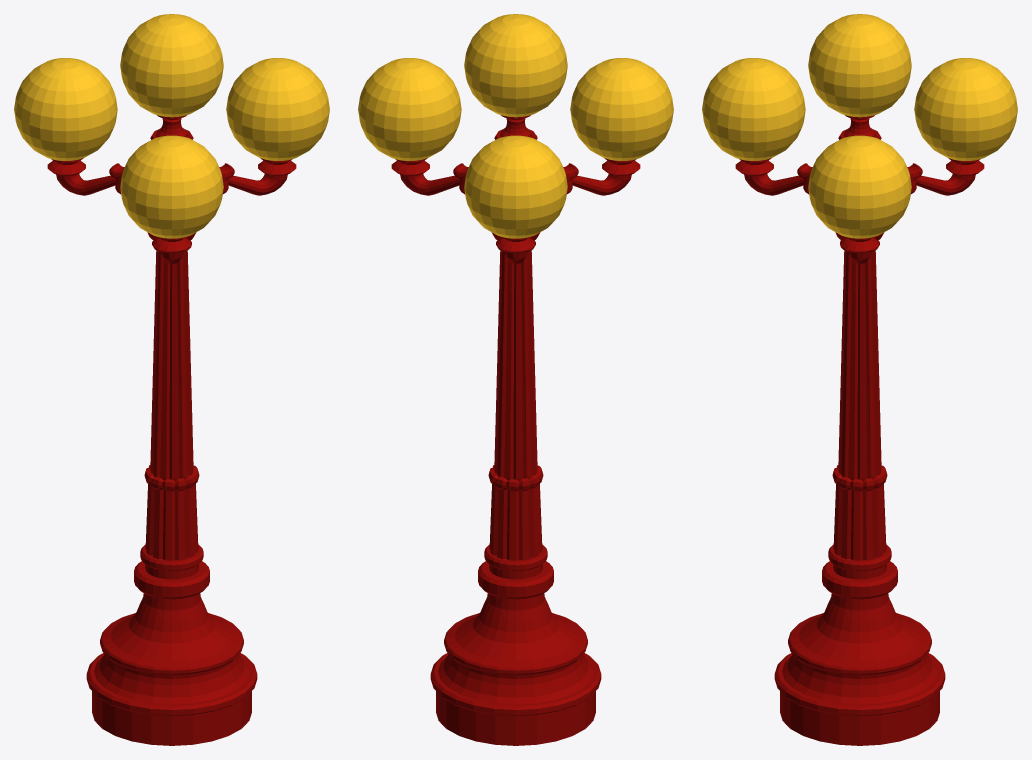
Rendered from Lamp.obj.
3 renders of one model, left to right at view 1: azimuth 30°, elevation 25°; view 2: azimuth 150°, elevation 25°; view 3: azimuth 270°, elevation 25°, orthographic.
Visible parts, largest first — view 1: post, globes, arms; view 2: post, globes, arms; view 3: post, globes, arms.
Part boxes in pixels (bbox=[...]): post: bbox=[86, 115, 257, 745]; globes: bbox=[14, 14, 329, 238]; arms: bbox=[47, 158, 296, 264]; post: bbox=[430, 115, 601, 745]; globes: bbox=[358, 14, 673, 238]; arms: bbox=[391, 158, 640, 264]; post: bbox=[774, 115, 945, 745]; globes: bbox=[702, 14, 1017, 238]; arms: bbox=[735, 158, 984, 264].
Size of the model in its own units: 4.39 by 11.69 by 4.83.
